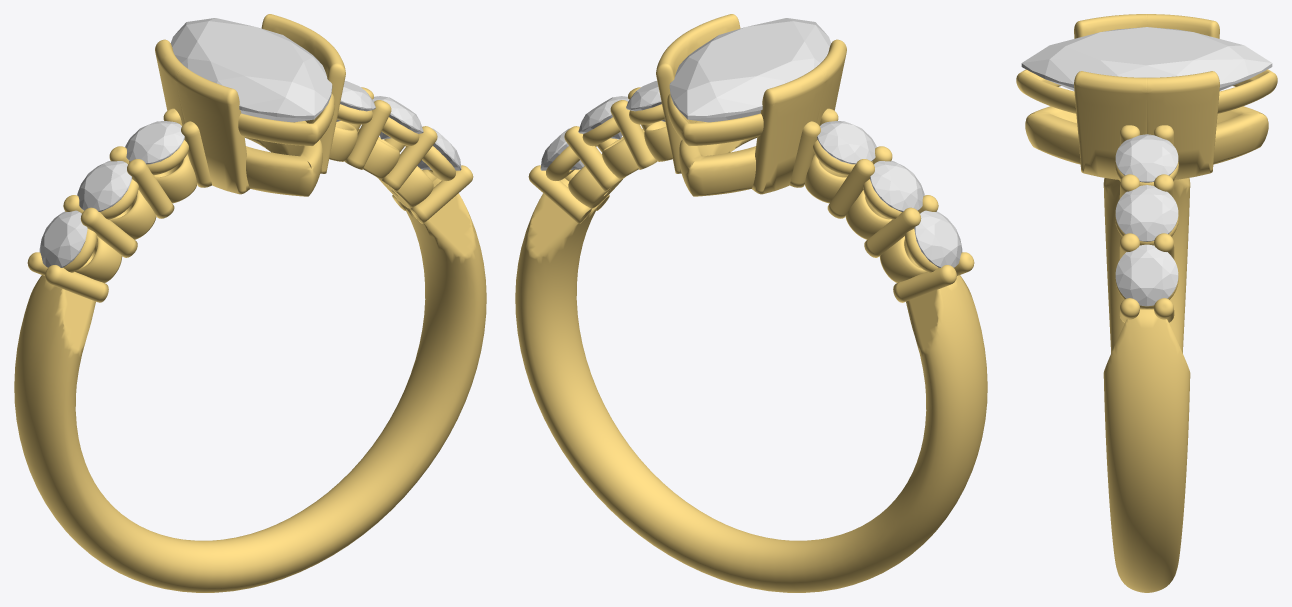
The model's file is diamond-marquise-yellowgold-halfmoonbezel-taperedband-7stone.glb.
3 views of the same model, side by side, from view 1: azimuth 30°, elevation 25°; view 2: azimuth 150°, elevation 25°; view 3: azimuth 270°, elevation 25° (orthographic).
Visible parts, largest first — view 1: metal.003, stone.001, dia.002, dia.015, dia.016, dia.018, dia.019; view 2: metal.003, stone.001, dia.002, dia.015, dia.016, dia.018, dia.019; view 3: metal.003, stone.001, dia.017, dia.018, dia.019.
Part boxes in pixels (x1,y1,x2,y2): metal.003: [14, 14, 486, 592]; stone.001: [170, 18, 332, 122]; dia.002: [39, 210, 87, 267]; dia.015: [77, 161, 131, 211]; dia.016: [125, 121, 184, 164]; dia.018: [372, 96, 423, 139]; dia.019: [336, 81, 375, 121]; metal.003: [515, 14, 987, 592]; stone.001: [669, 18, 831, 122]; dia.002: [914, 210, 962, 267]; dia.015: [870, 161, 924, 211]; dia.016: [817, 121, 876, 164]; dia.018: [578, 96, 629, 139]; dia.019: [626, 81, 665, 121]; metal.003: [1016, 14, 1277, 592]; stone.001: [1021, 27, 1272, 90]; dia.017: [1115, 244, 1178, 306]; dia.018: [1115, 185, 1178, 241]; dia.019: [1115, 134, 1178, 182].
Bounding box in the file's own units: 20.5 × 22.92 × 10.4.
